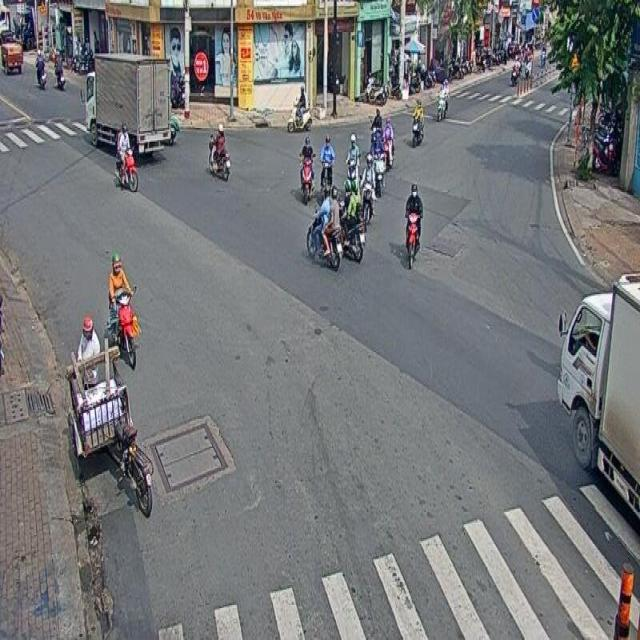car: (286, 86, 313, 132)
motorcycle: (109, 254, 137, 372), (305, 183, 342, 271), (340, 178, 366, 261), (404, 183, 424, 268), (117, 122, 138, 193), (208, 124, 231, 182), (361, 151, 375, 227), (319, 132, 335, 196), (300, 137, 314, 204), (346, 132, 358, 180), (412, 98, 424, 146)
truck: (557, 280, 640, 515), (84, 54, 169, 156)
